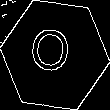O_S: (32, 27, 78, 83)
